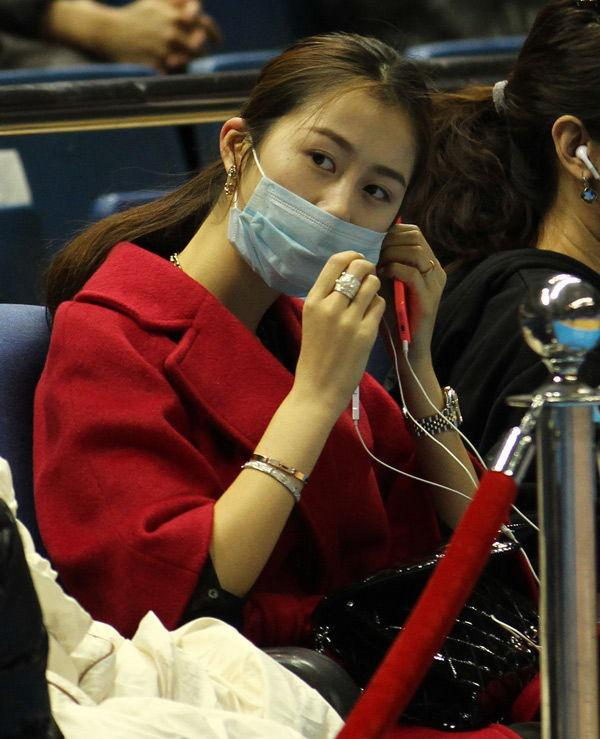WRONG: (248, 109, 421, 282)
